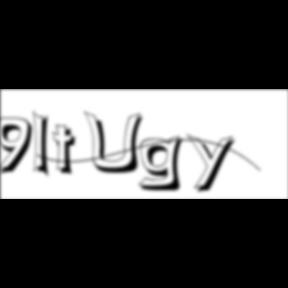9: (1, 117, 40, 177)
U: (84, 110, 148, 176)
g: (138, 134, 190, 194)
l: (34, 108, 56, 182)
t: (52, 124, 84, 179)
y: (187, 132, 241, 196)
